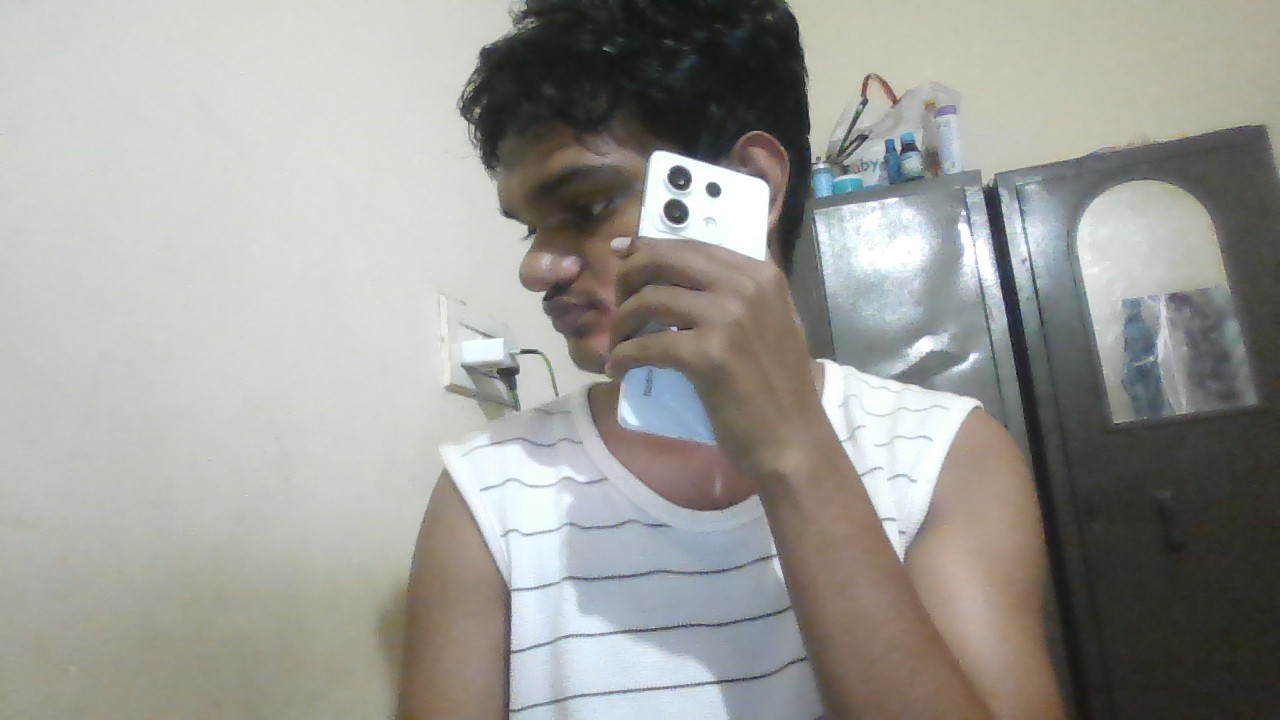phone: (641, 150, 777, 245)
